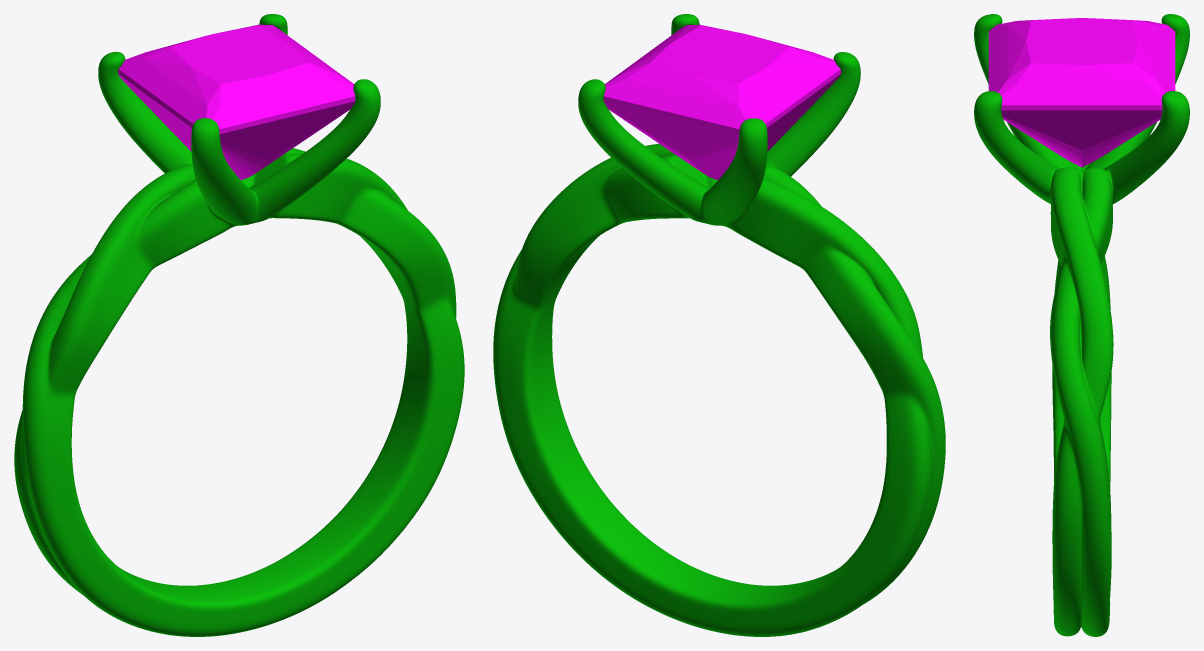
File: BE1M56D_PR_200ct_RENDER.glb
The picture shows the model from 3 angles, left to right: view 1: azimuth 30°, elevation 25°; view 2: azimuth 150°, elevation 25°; view 3: azimuth 270°, elevation 25°; orthographic projection.
Visible parts, largest first — view 1: Metal 01, CS_Diamond_Princess; view 2: Metal 01, CS_Diamond_Princess; view 3: Metal 01, CS_Diamond_Princess.
Boxes of the visible parts, x1,y1,x2,y2 form: Metal 01: (14,14,464,636); CS_Diamond_Princess: (118,24,355,179); Metal 01: (493,14,945,636); CS_Diamond_Princess: (603,24,840,179); Metal 01: (974,14,1189,636); CS_Diamond_Princess: (988,18,1175,167).
Size of the model in its own units: 20.33 by 25.29 by 8.67.
